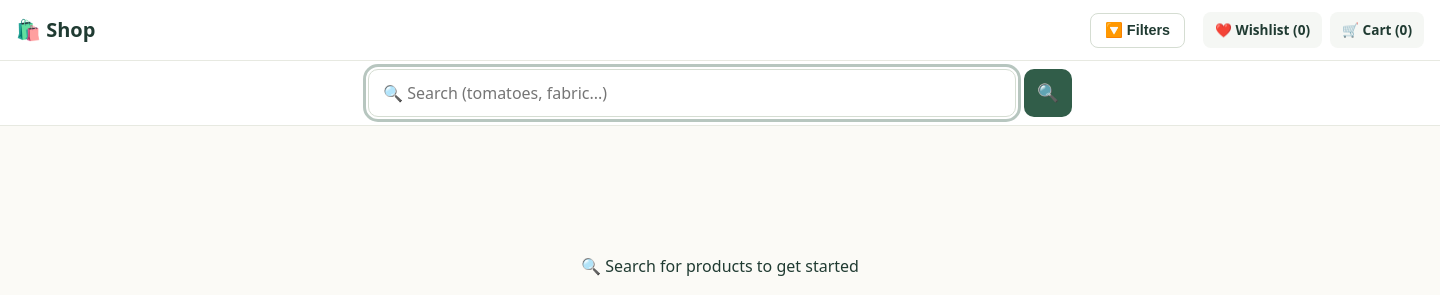
minimal shopping page › says so when the catalogue is unavailable instead of reporting no matches
Type "orange" into the field named "Search products" at coordinates (692, 93), box left=368, top=69, right=1016, bottom=117
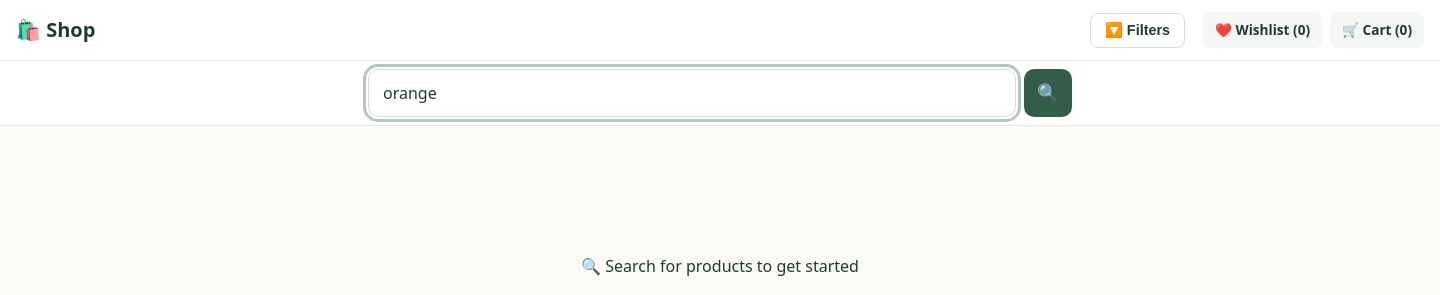
Submit the form, box left=368, top=69, right=1072, bottom=117
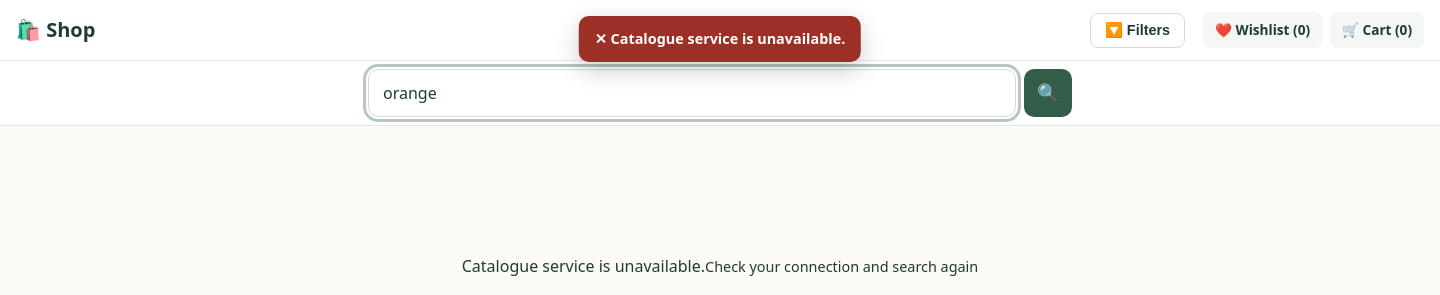
Expected: the text "Catalogue service is unavailable." is shown, left=462, top=254, right=705, bottom=278
